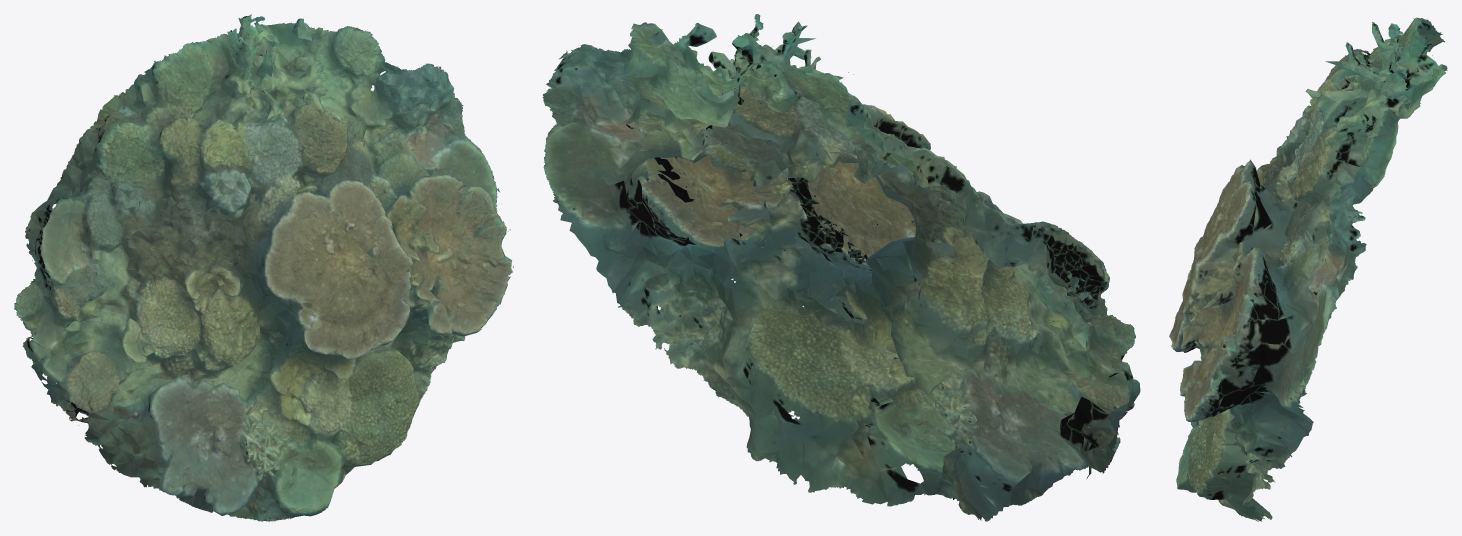
The model's file is whitsundays_coral_community.glb.
3 views of the same model, side by side, from view 1: azimuth 30°, elevation 25°; view 2: azimuth 150°, elevation 25°; view 3: azimuth 270°, elevation 25° (orthographic). The views are drawn at different scales.
Bounding box in the file's own units: 11.55 × 9.99 × 5.17.
1 material, 1 textured.
